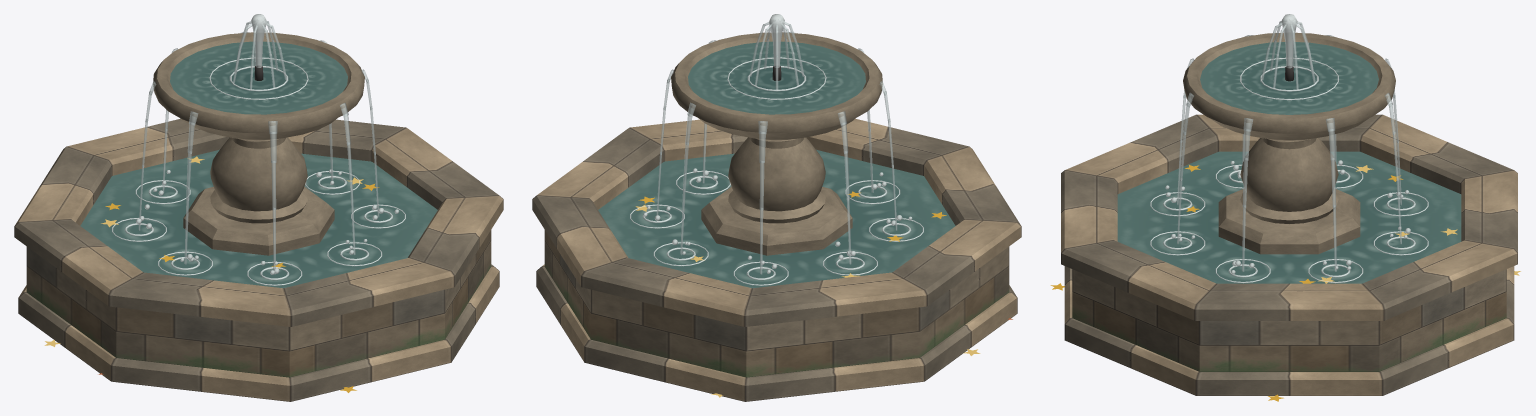
File: plaza_fountain.glb
3 renders of one model, left to right at view 1: azimuth 30°, elevation 25°; view 2: azimuth 150°, elevation 25°; view 3: azimuth 270°, elevation 25°, orthographic.
Parts seen in each view (by area): view 1: model; view 2: model; view 3: model.
Part boxes in pixels (box(x1,y1,x2,y2)): model: box(14, 14, 503, 401); model: box(532, 14, 1021, 401); model: box(1050, 14, 1520, 401).
Bounding box in the file's own units: 3.55 × 2.31 × 3.45.
10 materials, 4 textured.
